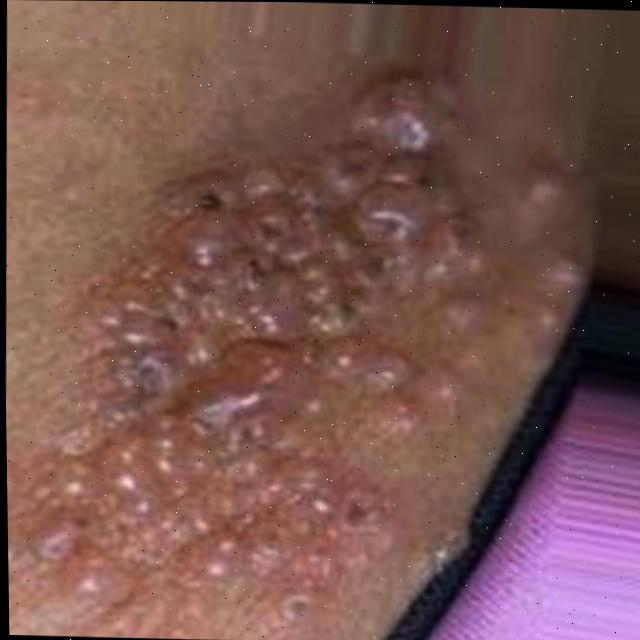Shingles: (36, 112, 583, 640)
